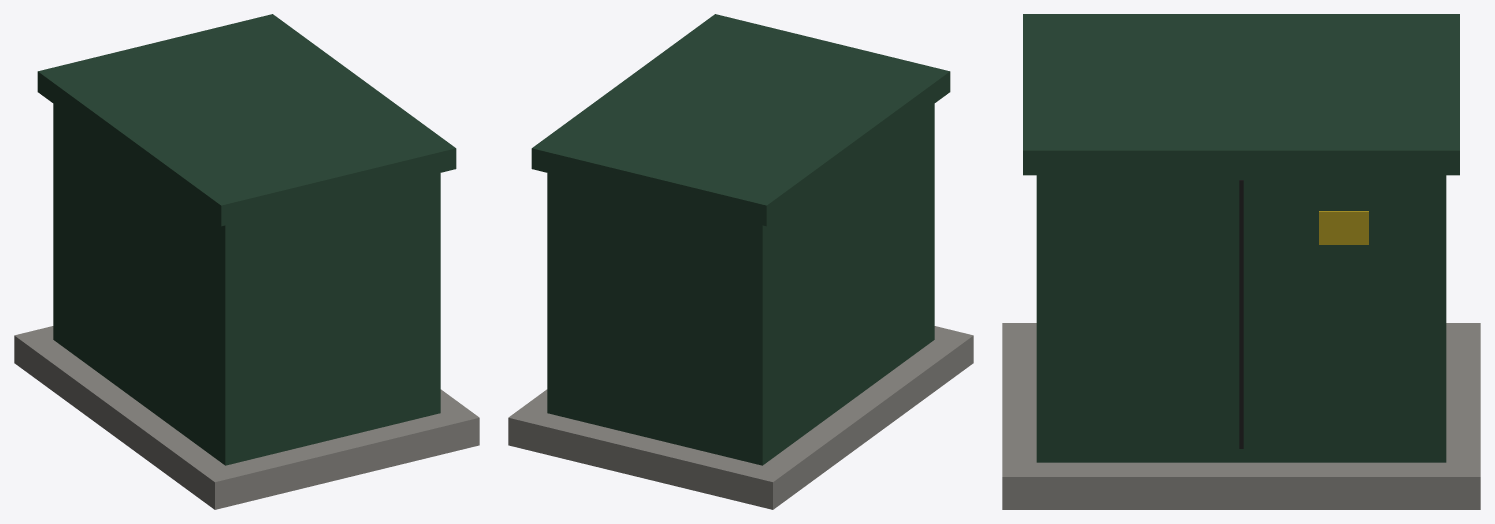
Rendered from SM_Prop_power_kiosk_1_LOD1.glb.
3 views of the same model, side by side, from view 1: azimuth 30°, elevation 25°; view 2: azimuth 150°, elevation 25°; view 3: azimuth 270°, elevation 25° (orthographic). The views are drawn at different scales.
Parts seen in each view (by area): view 1: SM_Prop_power_kiosk_1_LOD1; view 2: SM_Prop_power_kiosk_1_LOD1; view 3: SM_Prop_power_kiosk_1_LOD1.
Part boxes in pixels (x1,y1,x2,y2): SM_Prop_power_kiosk_1_LOD1: (14, 14, 479, 509); SM_Prop_power_kiosk_1_LOD1: (508, 14, 973, 509); SM_Prop_power_kiosk_1_LOD1: (1002, 14, 1480, 509).
Bounding box in the file's own units: 1.6 × 1.7 × 2.1.
